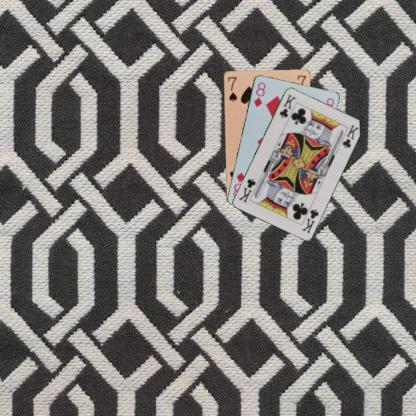7s: (225, 74, 238, 103)
8d: (251, 79, 267, 108)
Kc: (299, 206, 320, 234), (277, 92, 297, 119)
